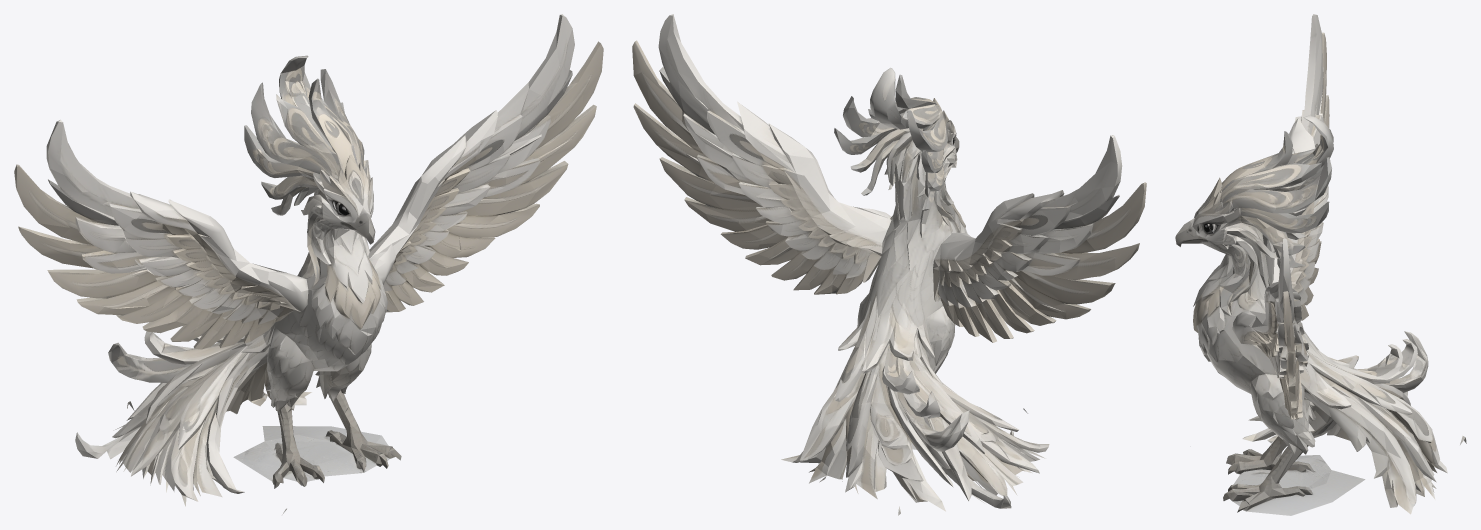
The picture shows the model from 3 angles, left to right: view 1: azimuth 30°, elevation 25°; view 2: azimuth 150°, elevation 25°; view 3: azimuth 270°, elevation 25°; orthographic projection. The views are drawn at different scales.
Size of the model in its own units: 1.9 by 1.29 by 0.8942.
1 material, 1 textured.
